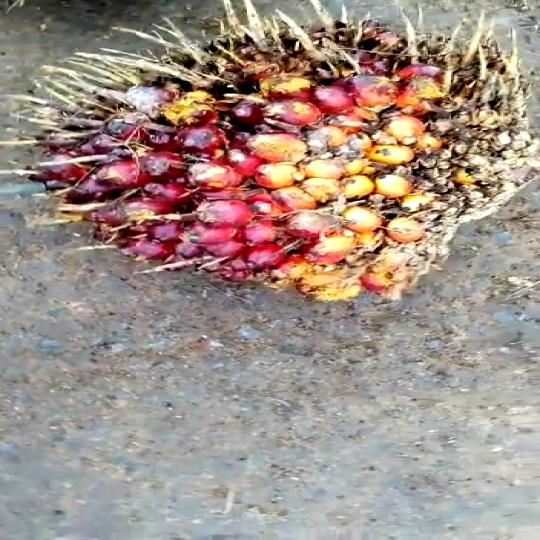masak: (28, 14, 525, 305)
